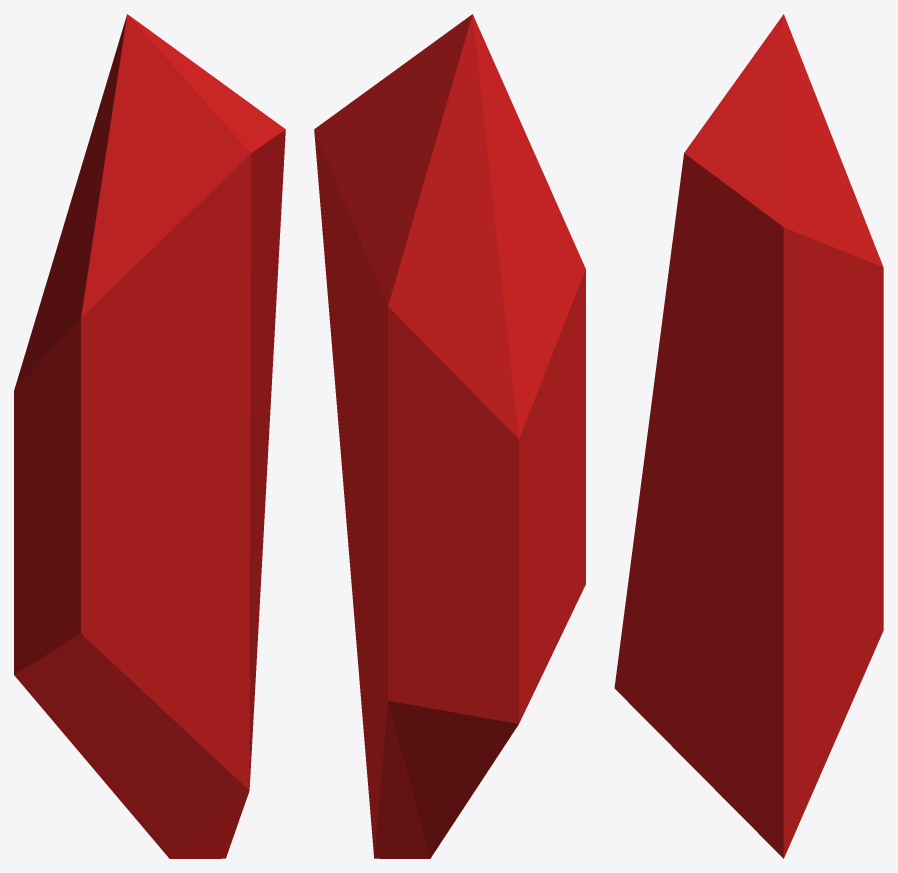
Rendered from Crystal_Plat_4.FBX.
The picture shows the model from 3 angles, left to right: view 1: azimuth 30°, elevation 25°; view 2: azimuth 150°, elevation 25°; view 3: azimuth 270°, elevation 25°; orthographic projection. The views are drawn at different scales.
Parts seen in each view (by area): view 1: Spindle008; view 2: Spindle008; view 3: Spindle008.
Part boxes in pixels (x1,y1,x2,y2): Spindle008: (14,14,285,858); Spindle008: (314,14,585,858); Spindle008: (614,14,883,858).
Bounding box in the file's own units: 48.76 × 170 × 51.74.
